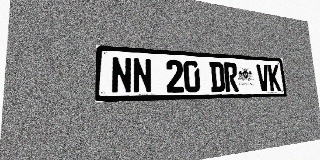0: (183, 60, 200, 93)
2: (166, 59, 184, 93)
D: (209, 62, 225, 92)
K: (268, 65, 281, 91)
N: (111, 56, 132, 94), (132, 58, 152, 93)
R: (223, 62, 239, 92)
V: (256, 64, 270, 91)
